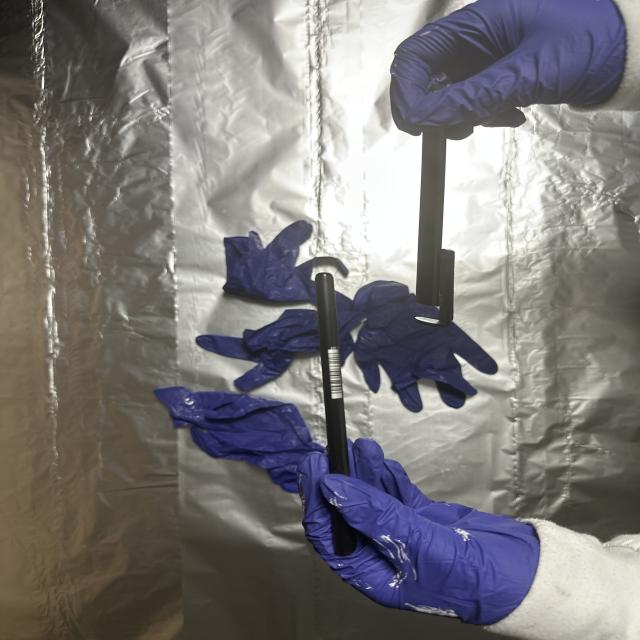gloves_contaminated: (298, 438, 540, 624), (390, 0, 631, 139)
